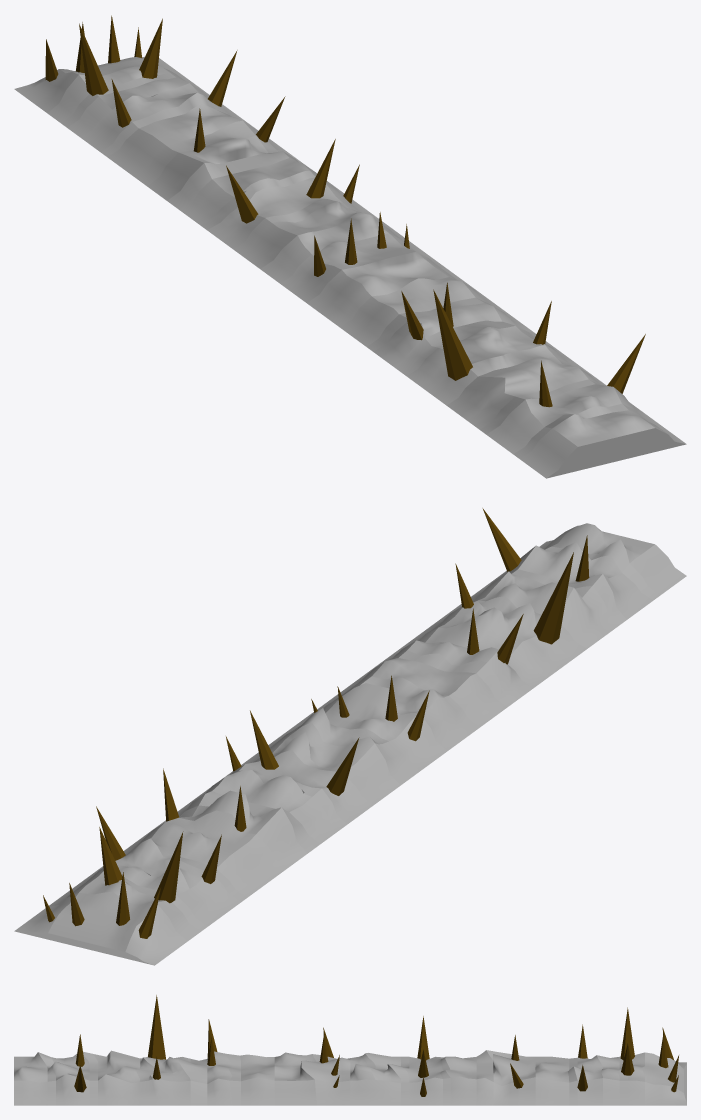
The model's file is LavaWave.fbx.
The picture shows the model from 3 angles, top to bottom: view 1: azimuth 30°, elevation 25°; view 2: azimuth 150°, elevation 25°; view 3: azimuth 270°, elevation 25°; orthographic projection. The views are drawn at different scales.
Visible parts, largest first — view 1: child16, child7, child13, child2, child15, child8, child5, child10, child11, child3, child14, child12 (+4 smaller); view 2: child1, child13, child5, child7, child15, child8, child2, child9, child11, child12, child6, child14 (+4 smaller); view 3: child13, child7, child2, child8, child12, child5, child1, child11, child15, child6, child14, child9 (+4 smaller).
Boxes of the visible parts, x1,y1,x2,y2 form: child16: [513, 403, 686, 478]; child7: [200, 139, 379, 254]; child13: [407, 289, 586, 405]; child2: [47, 18, 209, 137]; child15: [480, 334, 653, 453]; child8: [240, 202, 419, 283]; child5: [134, 96, 301, 200]; child10: [307, 252, 480, 327]; child11: [340, 277, 513, 351]; child3: [81, 50, 246, 156]; child14: [446, 357, 606, 429]; child12: [373, 282, 546, 376]; child1: [14, 872, 187, 965]; child13: [407, 552, 586, 678]; child5: [134, 768, 307, 877]; child7: [201, 710, 380, 828]; child15: [480, 508, 653, 624]; child8: [241, 708, 420, 799]; child2: [49, 827, 220, 940]; child9: [281, 675, 447, 770]; child11: [340, 650, 513, 726]; child12: [374, 608, 546, 702]; child6: [177, 770, 340, 853]; child14: [447, 571, 620, 648]; child13: [136, 995, 190, 1105]; child7: [388, 1016, 451, 1105]; child2: [597, 1007, 644, 1105]; child8: [350, 1053, 400, 1105]; child12: [178, 1019, 232, 1105]; child5: [486, 1035, 535, 1105]; child1: [641, 1027, 686, 1105]; child11: [226, 1054, 274, 1105]; child15: [51, 1034, 97, 1105]; child6: [445, 1050, 493, 1105]; child14: [93, 1050, 140, 1105]; child9: [301, 1027, 350, 1105].
Bounding box in the file's own units: 37.3 × 25.06 × 226.
